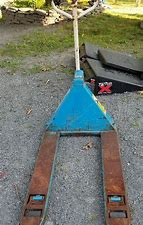Pallet Jack: (17, 1, 132, 225)
